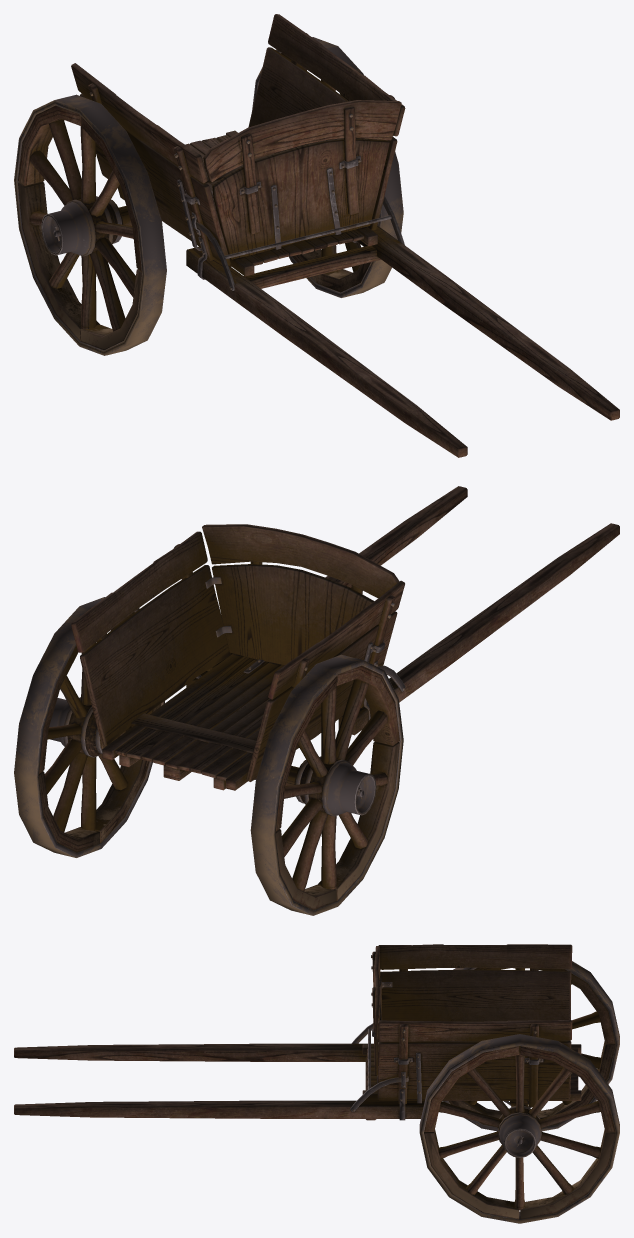
The picture shows the model from 3 angles, top to bottom: view 1: azimuth 30°, elevation 25°; view 2: azimuth 150°, elevation 25°; view 3: azimuth 270°, elevation 25°; orthographic projection. The views are drawn at different scales.
Parts seen in each view (by area): view 1: obj2, obj3, obj1; view 2: obj2, obj3, obj1; view 3: obj2, obj1, obj3.
Part boxes in pixels (x1,y1,x2,y2): obj2: [71, 14, 619, 457]; obj3: [14, 94, 166, 355]; obj1: [252, 37, 403, 297]; obj2: [71, 486, 619, 790]; obj3: [250, 654, 403, 915]; obj1: [14, 597, 164, 857]; obj2: [14, 944, 581, 1120]; obj1: [419, 1034, 619, 1223]; obj3: [443, 961, 619, 1131].
Bounding box in the file's own units: 266 × 220 × 582.
Materials: 1 (1 with a texture image).
